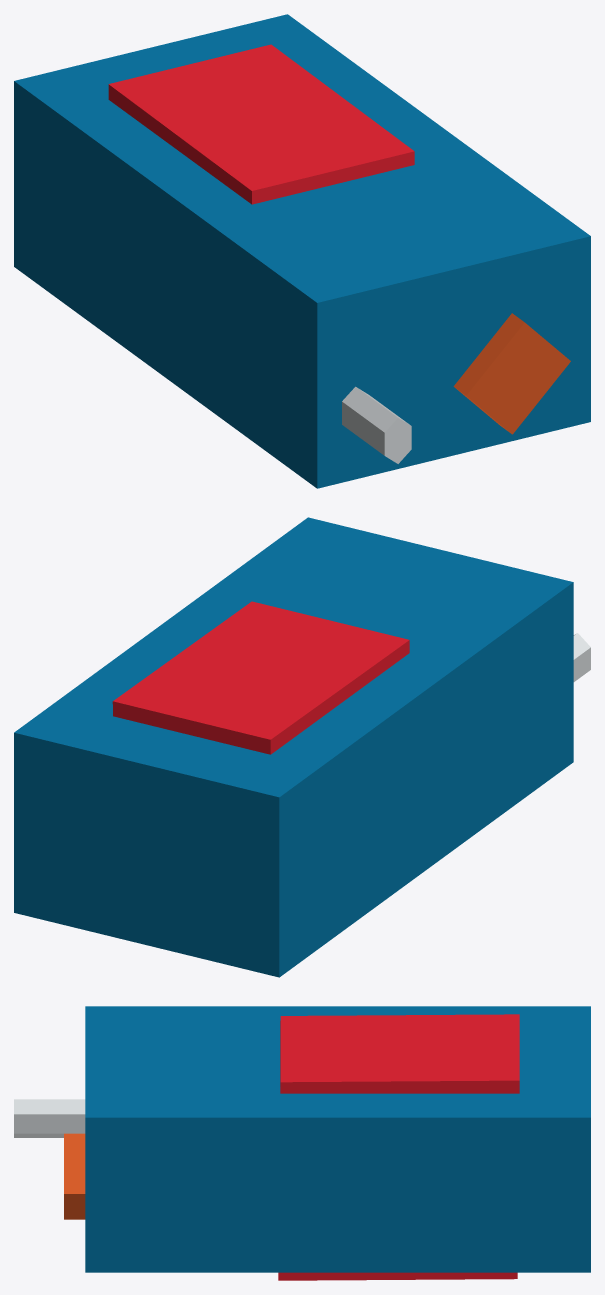
Rendered from tinker.obj.
3 renders of one model, top to bottom at view 1: azimuth 30°, elevation 25°; view 2: azimuth 150°, elevation 25°; view 3: azimuth 270°, elevation 25°, orthographic. The views are drawn at different scales.
Parts seen in each view (by area): view 1: group_0_30377, group_0_15277357, group_0_14900002, group_0_14541540; view 2: group_0_30377, group_0_15277357, group_0_14541540; view 3: group_0_30377, group_0_15277357, group_0_14541540, group_0_14900002.
Boxes of the visible parts, <box> form: group_0_30377: <box>14,14,590,488</box>; group_0_15277357: <box>108,44,414,204</box>; group_0_14900002: <box>453,313,570,434</box>; group_0_14541540: <box>342,386,411,463</box>; group_0_30377: <box>14,517,573,977</box>; group_0_15277357: <box>112,601,409,754</box>; group_0_14541540: <box>573,633,590,681</box>; group_0_30377: <box>85,1006,590,1272</box>; group_0_15277357: <box>278,1014,519,1280</box>; group_0_14541540: <box>14,1099,85,1137</box>; group_0_14900002: <box>64,1133,85,1219</box>.
Bounding box in the file's own units: 37 × 33 × 81.
